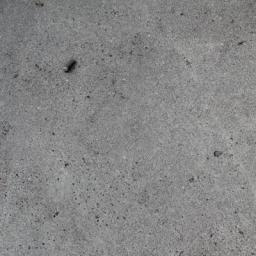FOD: (61, 58, 79, 76)
